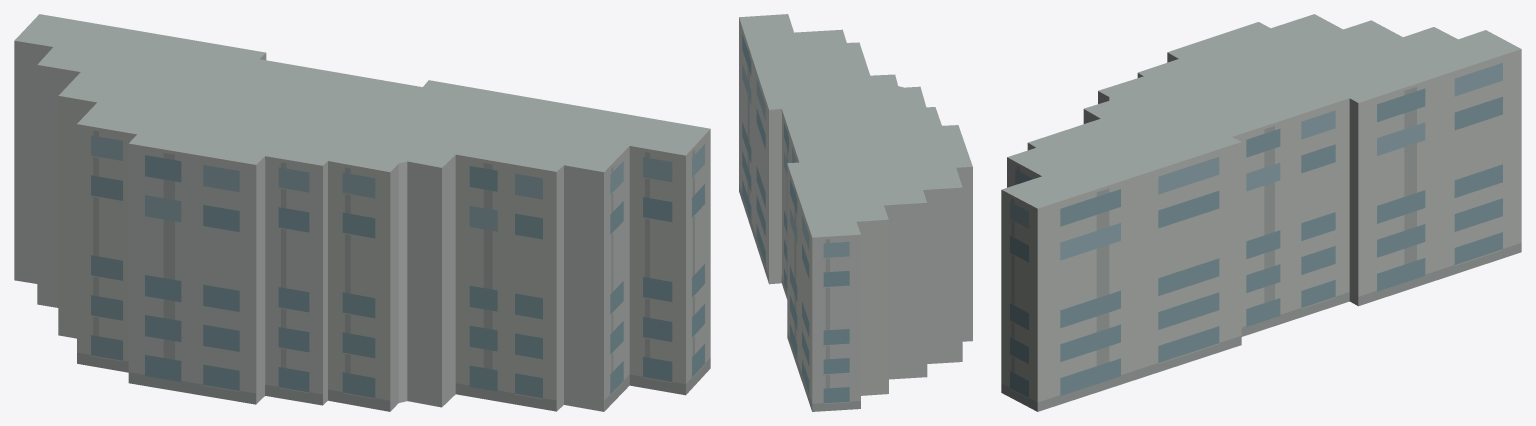
File: survey-upis-32671254.glb
3 views of the same model, side by side, from view 1: azimuth 30°, elevation 25°; view 2: azimuth 150°, elevation 25°; view 3: azimuth 270°, elevation 25° (orthographic). The views are drawn at different scales.
Parts seen in each view (by area): view 1: survey-upis-32671254.tmp; view 2: survey-upis-32671254.tmp; view 3: survey-upis-32671254.tmp.
Part boxes in pixels (x1,y1,x2,y2): survey-upis-32671254.tmp: [14, 14, 710, 411]; survey-upis-32671254.tmp: [739, 14, 972, 411]; survey-upis-32671254.tmp: [1001, 14, 1521, 411].
Bounding box in the file's own units: 33.91 × 16.5 × 38.28.
